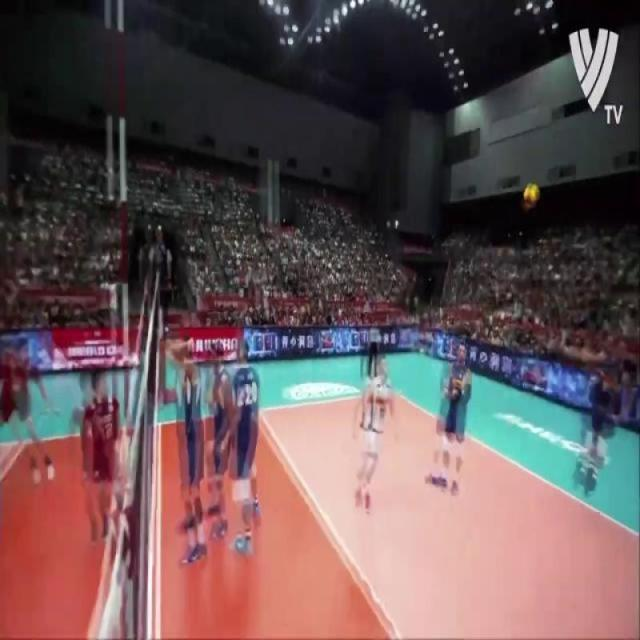volleyball: (523, 182, 540, 210)
